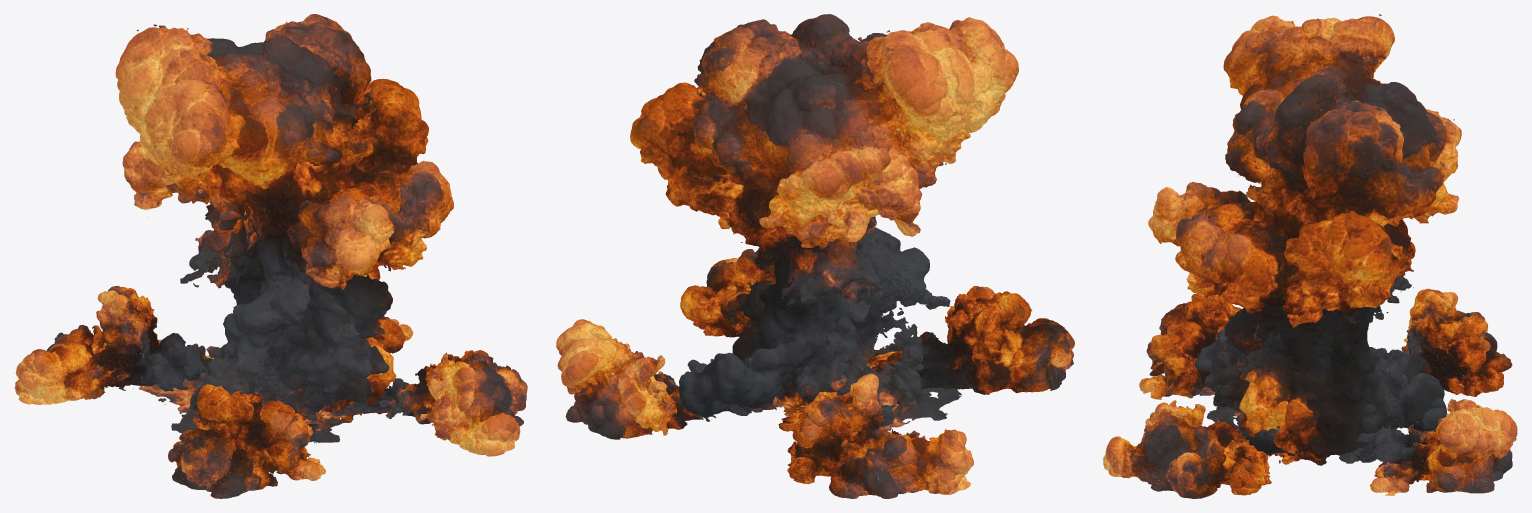
File: explosion1.glb
3 renders of one model, left to right at view 1: azimuth 30°, elevation 25°; view 2: azimuth 150°, elevation 25°; view 3: azimuth 270°, elevation 25°, orthographic. The views are drawn at different scales.
Visible parts, largest first — view 1: explosionobjcleanermaterialmergergles; view 2: explosionobjcleanermaterialmergergles; view 3: explosionobjcleanermaterialmergergles.
Part boxes in pixels (x1,y1,x2,y2): explosionobjcleanermaterialmergergles: (14,14,527,498); explosionobjcleanermaterialmergergles: (556,14,1074,498); explosionobjcleanermaterialmergergles: (1103,14,1517,498).
Size of the model in its own units: 12.7 by 12.54 by 12.69.
1 material, 1 textured.
